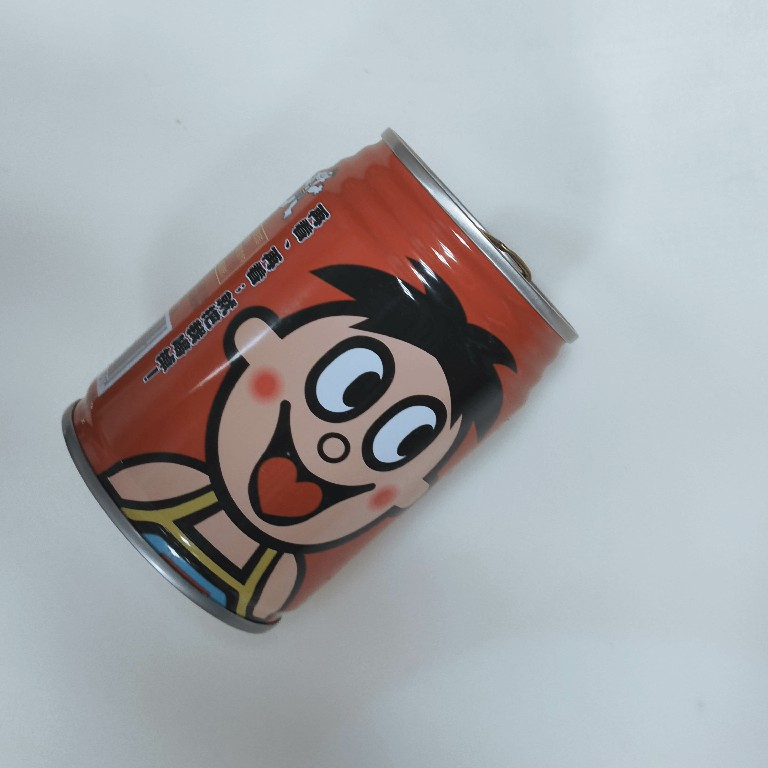can: (55, 123, 583, 639)
